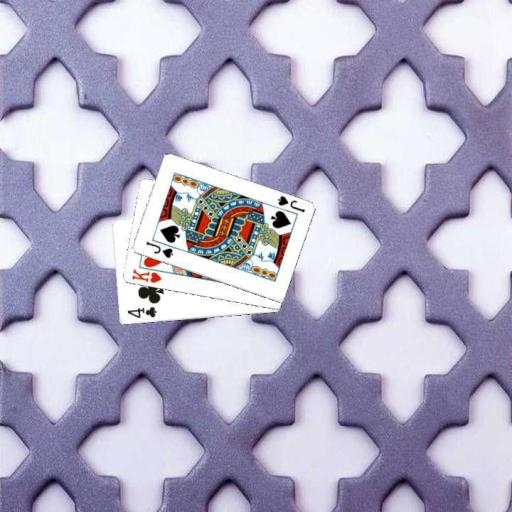4C: (124, 304, 158, 320)
JS: (143, 238, 174, 260), (274, 193, 306, 214)
KH: (129, 266, 163, 284)
